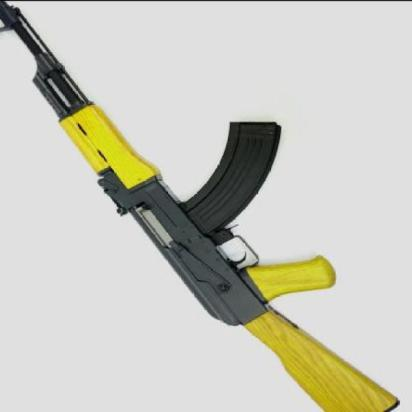Gun: (1, 4, 399, 412)
